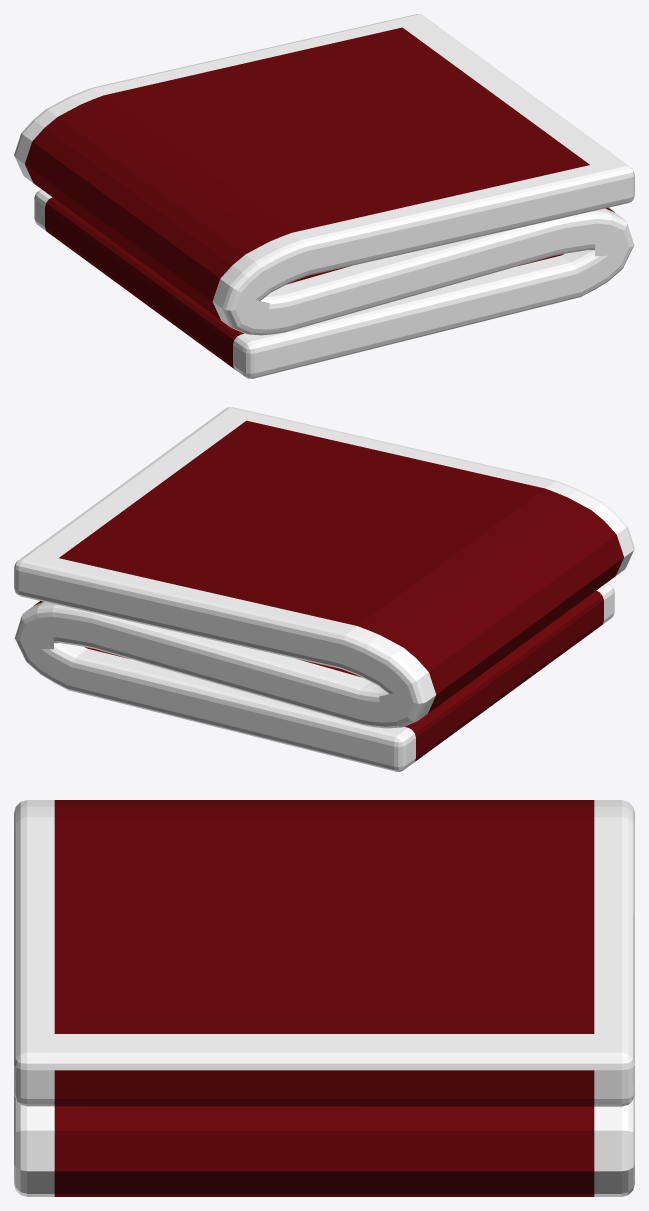
The model's file is Blanket.fbx.
3 views of the same model, one above another, from view 1: azimuth 30°, elevation 25°; view 2: azimuth 150°, elevation 25°; view 3: azimuth 270°, elevation 25° (orthographic). The views are drawn at different scales.
Parts seen in each view (by area): view 1: Cube; view 2: Cube; view 3: Cube.
Part boxes in pixels (<box>): Cube: <box>14,14,634,378</box>; Cube: <box>14,407,634,771</box>; Cube: <box>14,800,634,1196</box>.
Bounding box in the file's own units: 220 × 64.26 × 200.
